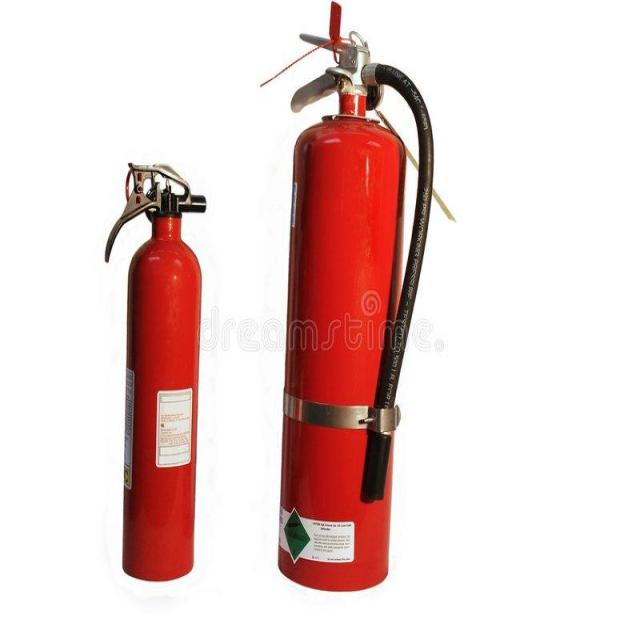fire_extinguisher: (272, 1, 438, 596), (97, 157, 210, 584)
